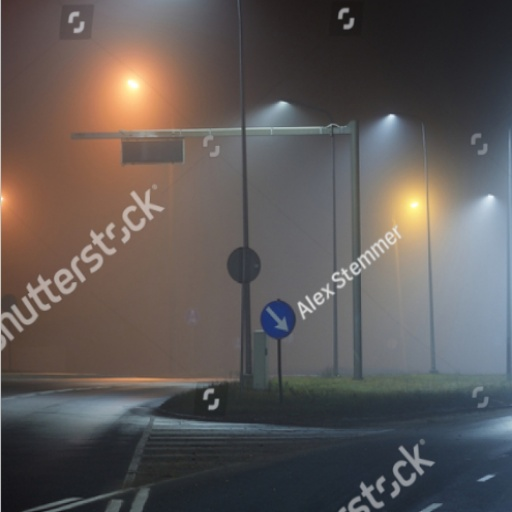Keep right: (256, 296, 309, 341)
